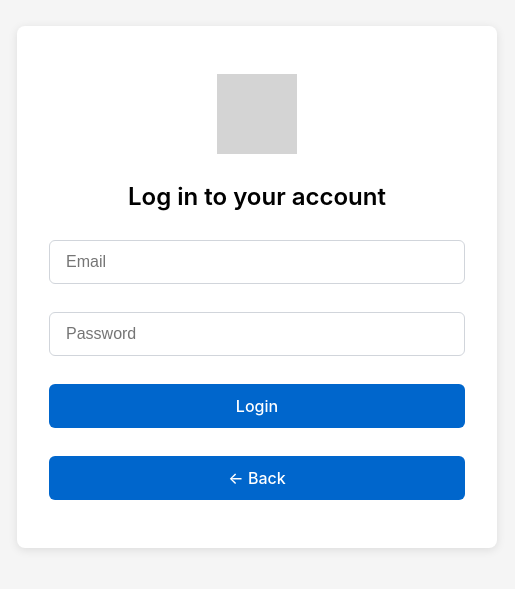
UI: LoginPage & LoginForm › no account shows specific error
In the field with placeholder "Email": point(257, 262) [49,240,465,284], type "nope@example.com"
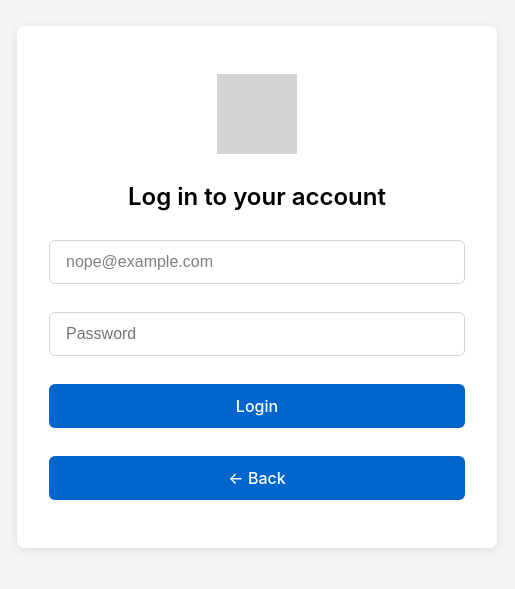
In the password field with placeholder "Password": point(257, 334) [49,312,465,356], type "whatever"
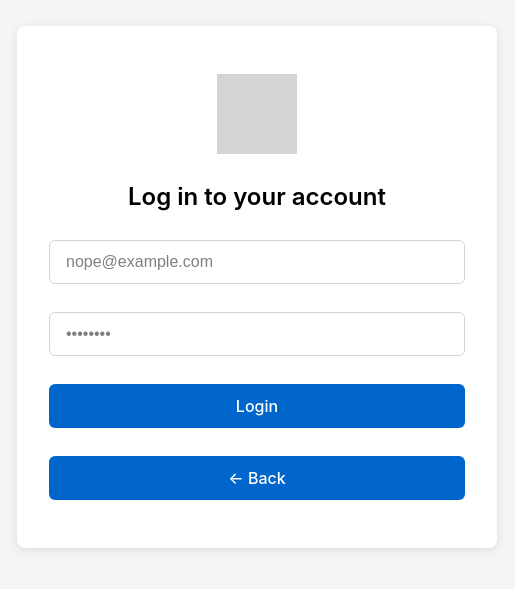
Click the button "Login": point(257, 406) [49,384,465,428]
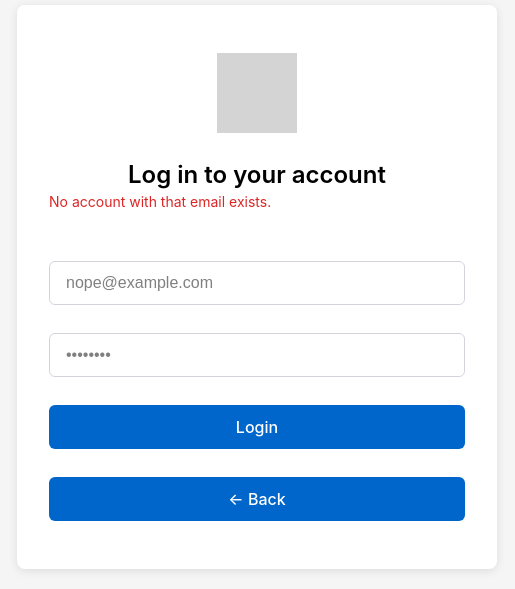
Check: the text "No account with that email exists." is shown, box [49,193,271,210]
